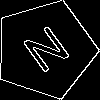N: (20, 24, 78, 83)
